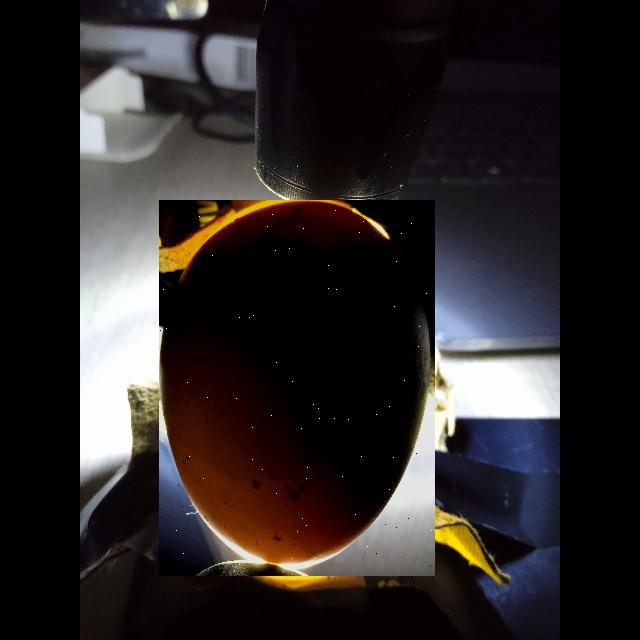Fertile: (159, 200, 435, 576)
